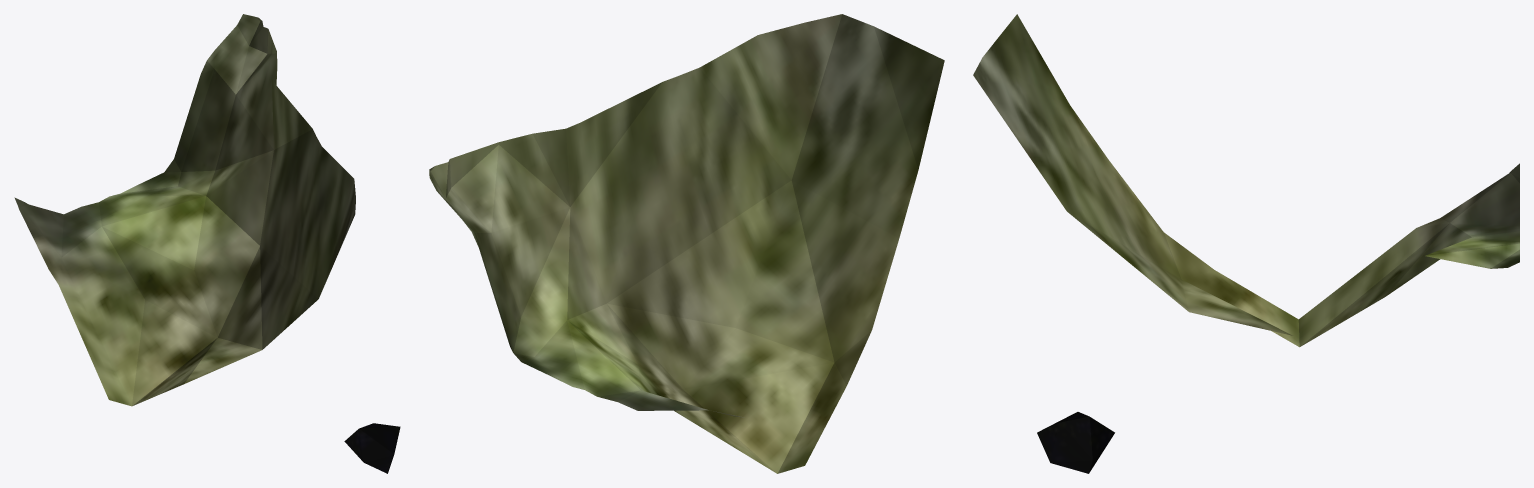
3 renders of one model, left to right at view 1: azimuth 30°, elevation 25°; view 2: azimuth 150°, elevation 25°; view 3: azimuth 270°, elevation 25°, orthographic. The views are drawn at different scales.
Size of the model in its own units: 0.83 by 1 by 1.42.
Materials: 1 (1 with a texture image).
